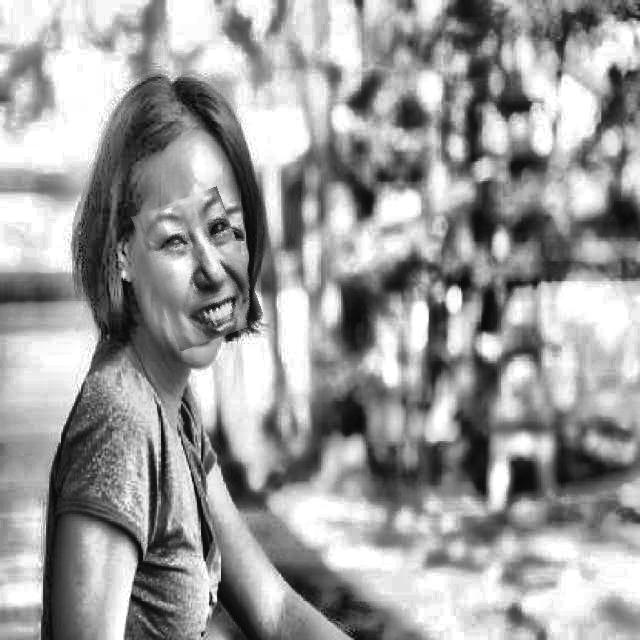happy: (142, 192, 255, 346)
